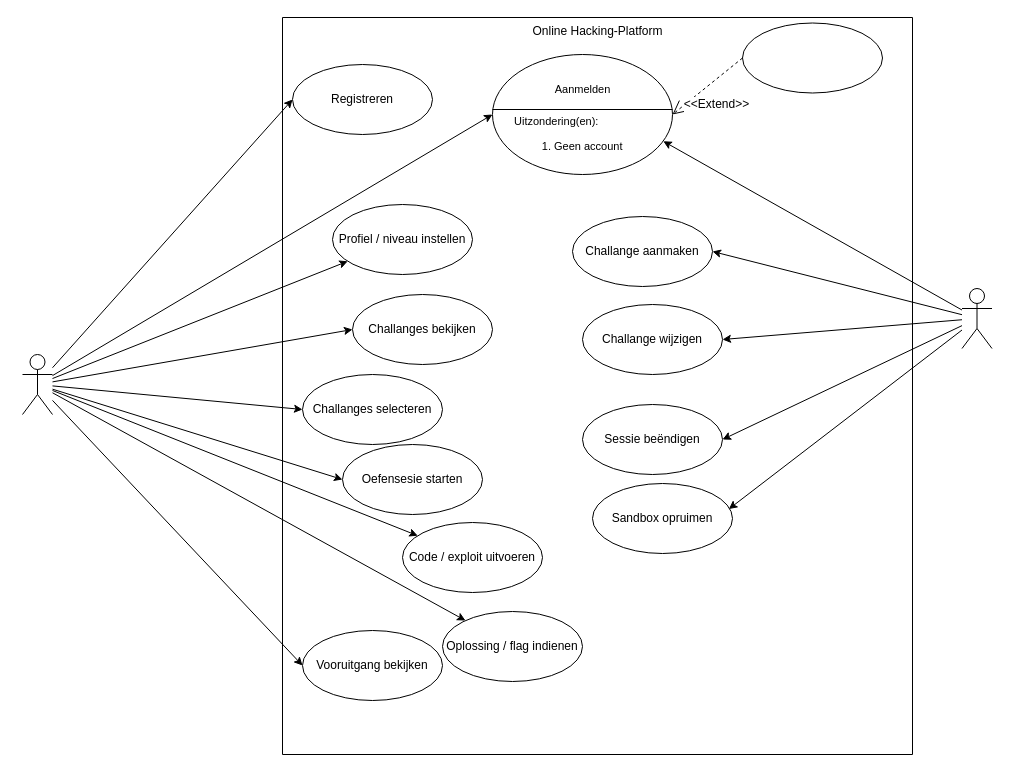
Image size: 1022x772. Some labels were removed from this diagram. The centre of each missing label's shape, as x and y in pixels:
"Beheerder" goes at point (976, 318).
"Foutmelding tonen" goes at point (812, 57).
"Student" goes at point (37, 384).
